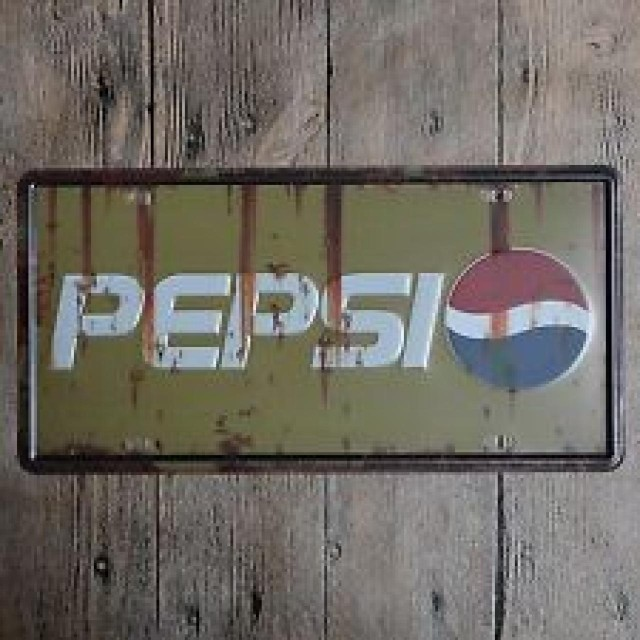pepsi: (440, 245, 592, 393)
